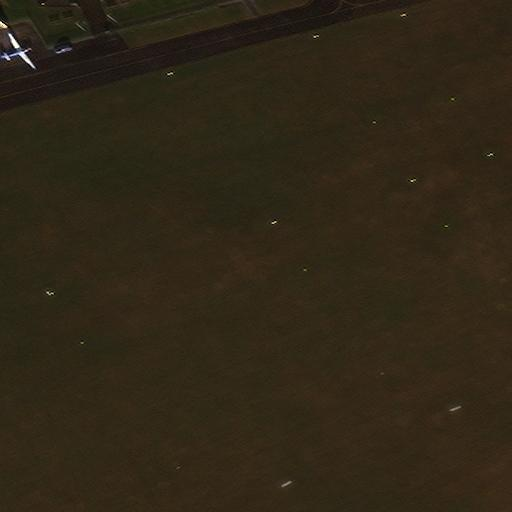Small Civil Transport: (0, 32, 37, 68)
